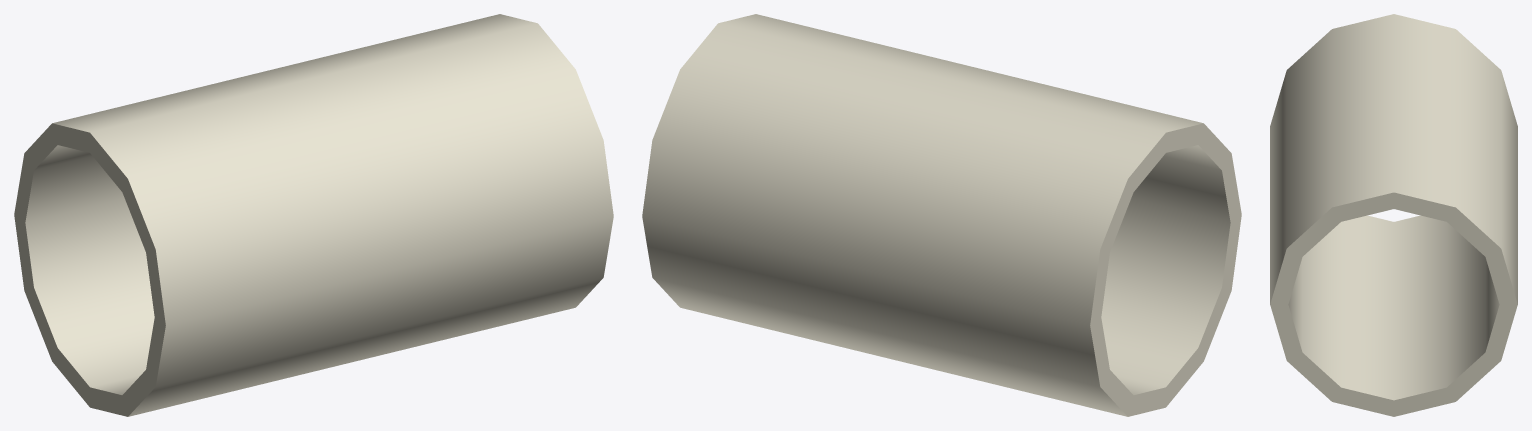
The model's file is straight_pipe_1.5x3m.fbx.
3 renders of one model, left to right at view 1: azimuth 30°, elevation 25°; view 2: azimuth 150°, elevation 25°; view 3: azimuth 270°, elevation 25°, orthographic. The views are drawn at different scales.
Parts seen in each view (by area): view 1: Straight_Pipe; view 2: Straight_Pipe; view 3: Straight_Pipe.
Boxes of the visible parts, x1=… form: Straight_Pipe: x1=14, y1=14, x2=613, y2=416; Straight_Pipe: x1=642, y1=14, x2=1241, y2=416; Straight_Pipe: x1=1270, y1=14, x2=1517, y2=416.
Size of the model in its own units: 3 by 1.76 by 1.76.
